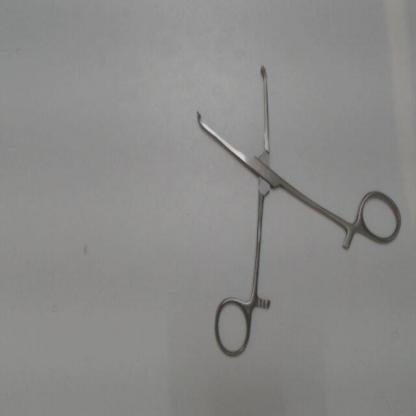Allis Tissue Forceps: (188, 50, 408, 366)
